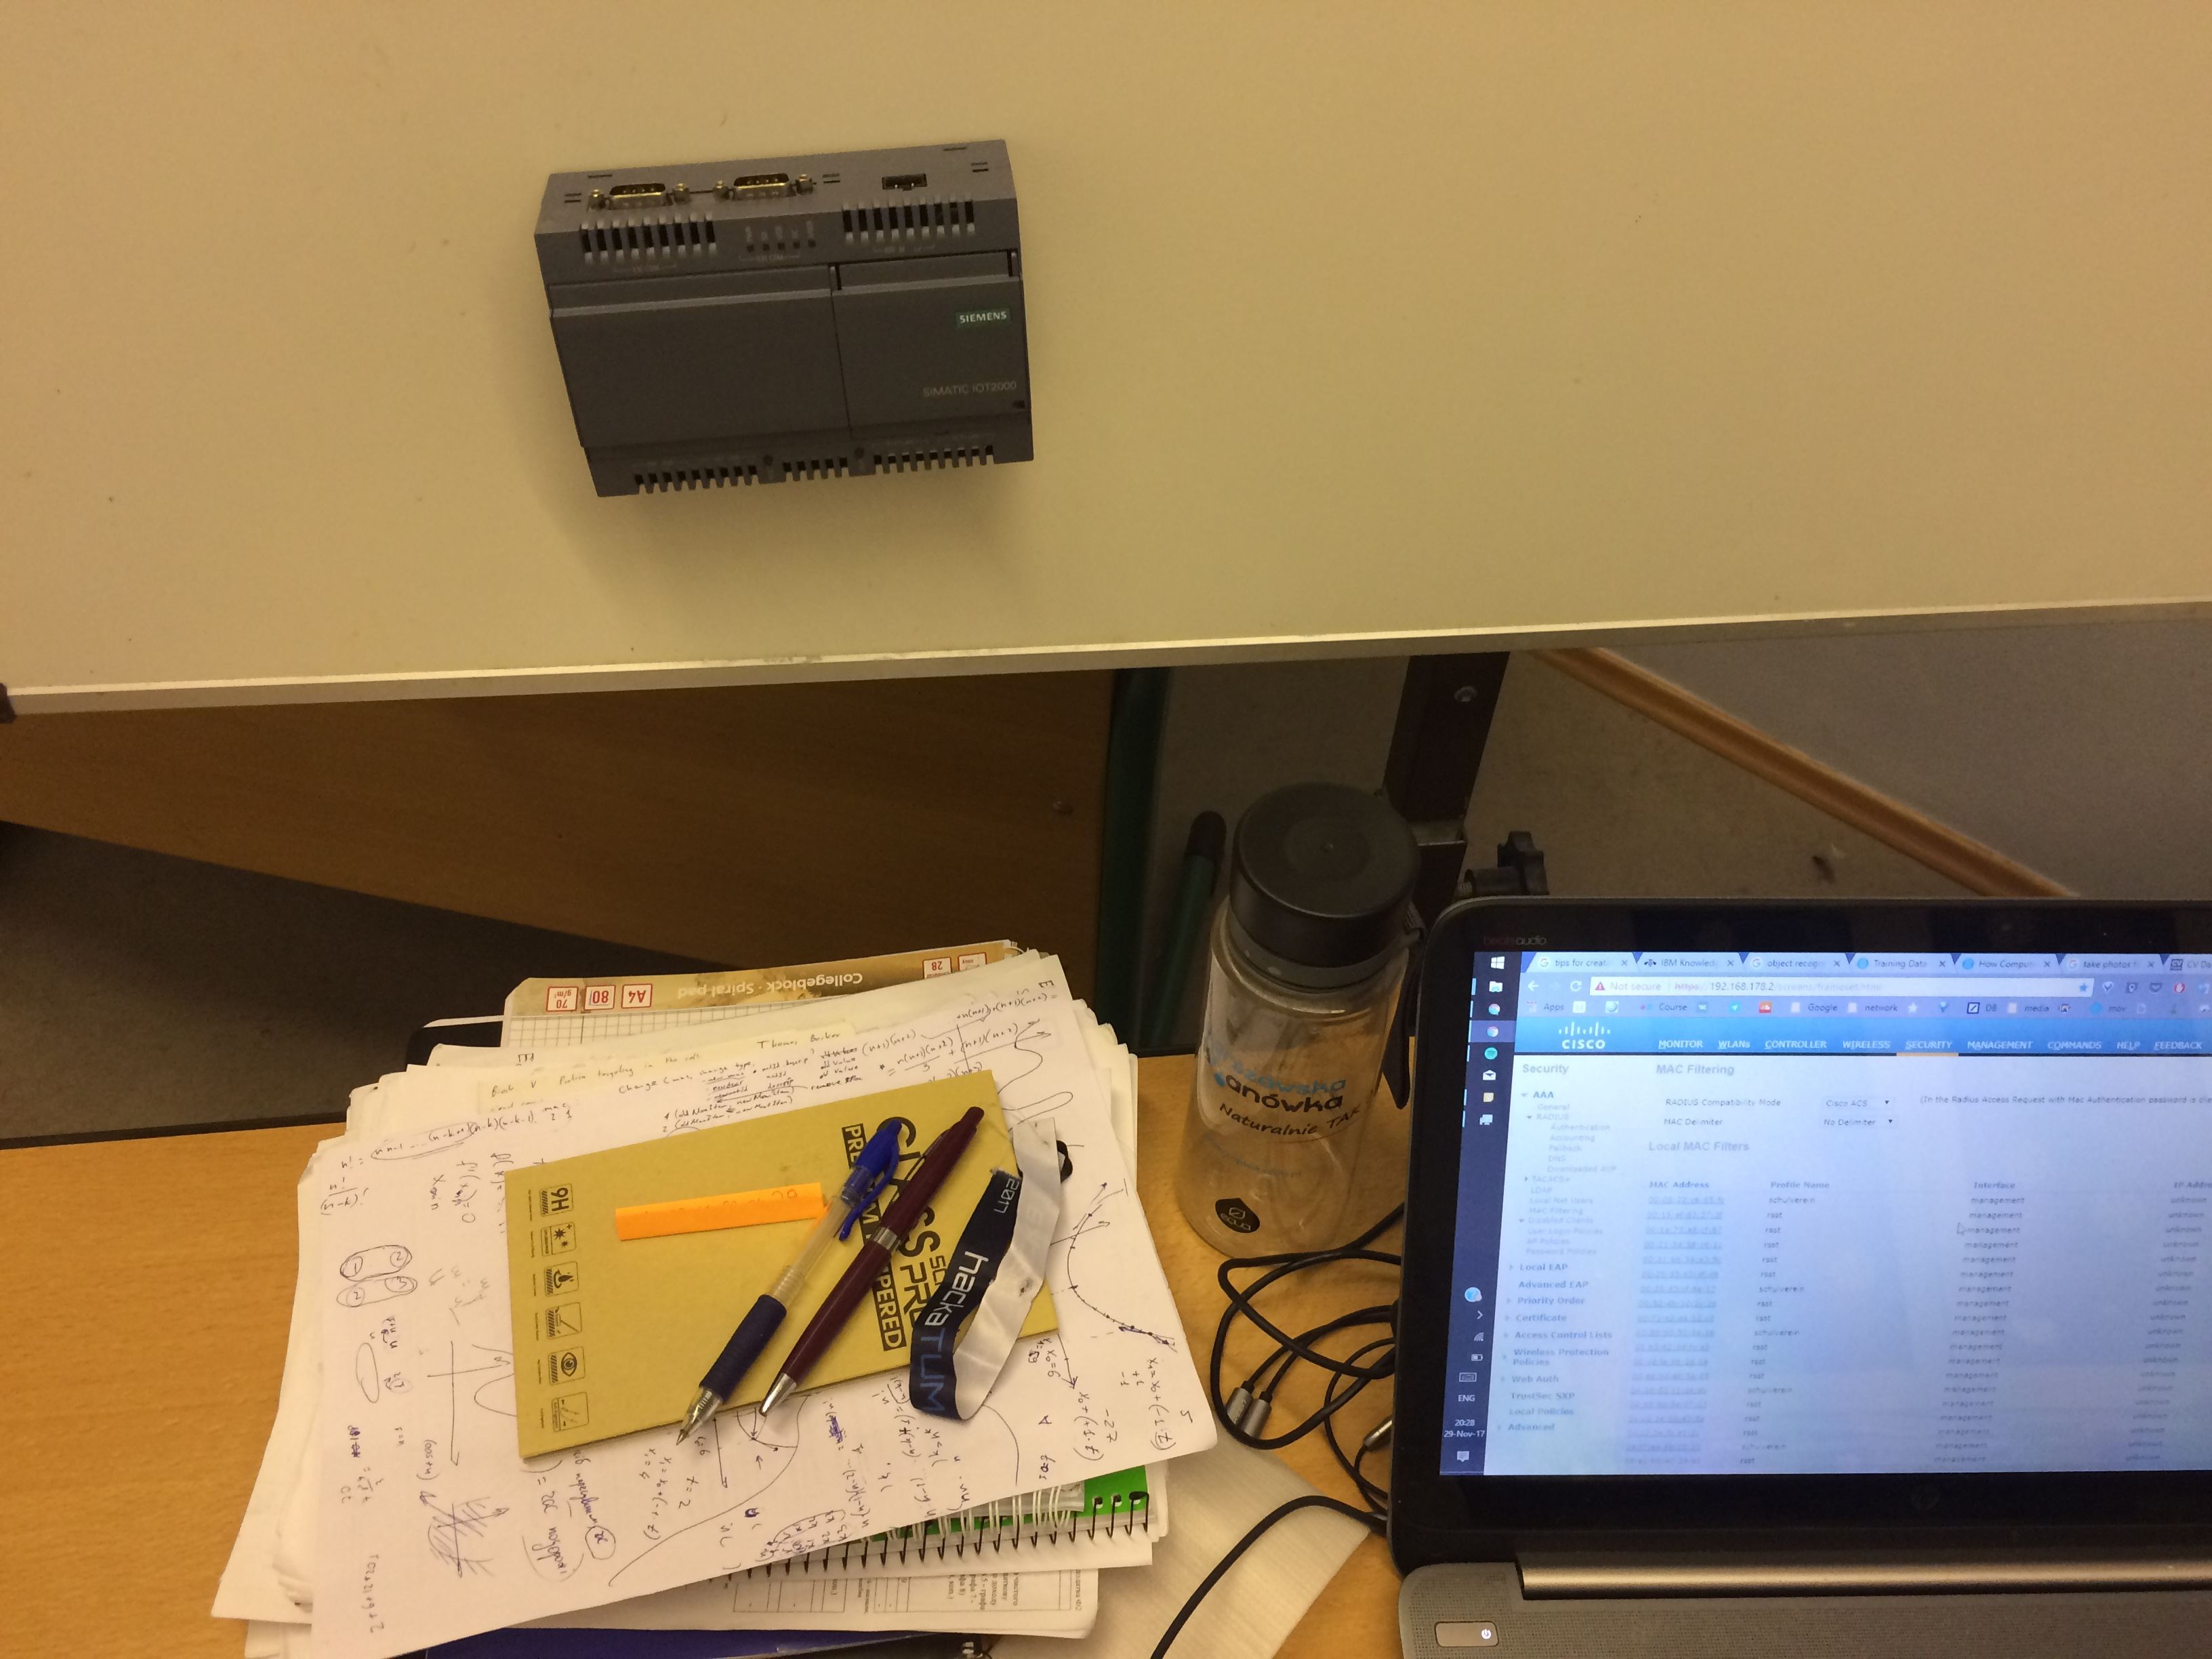iot2000: (531, 134, 1040, 500)
